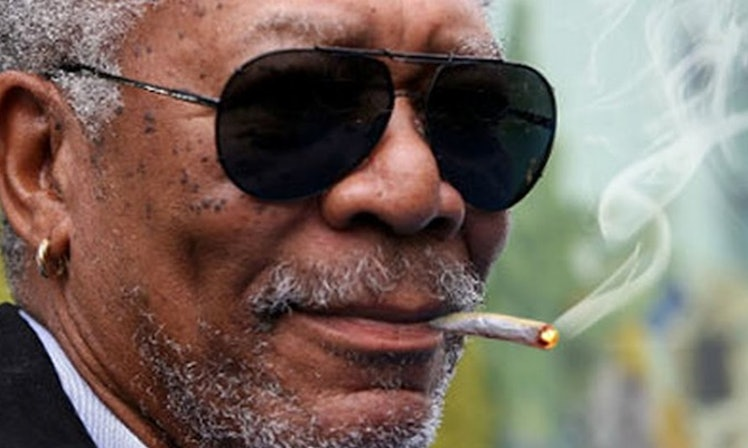cigarette: (423, 307, 571, 351)
